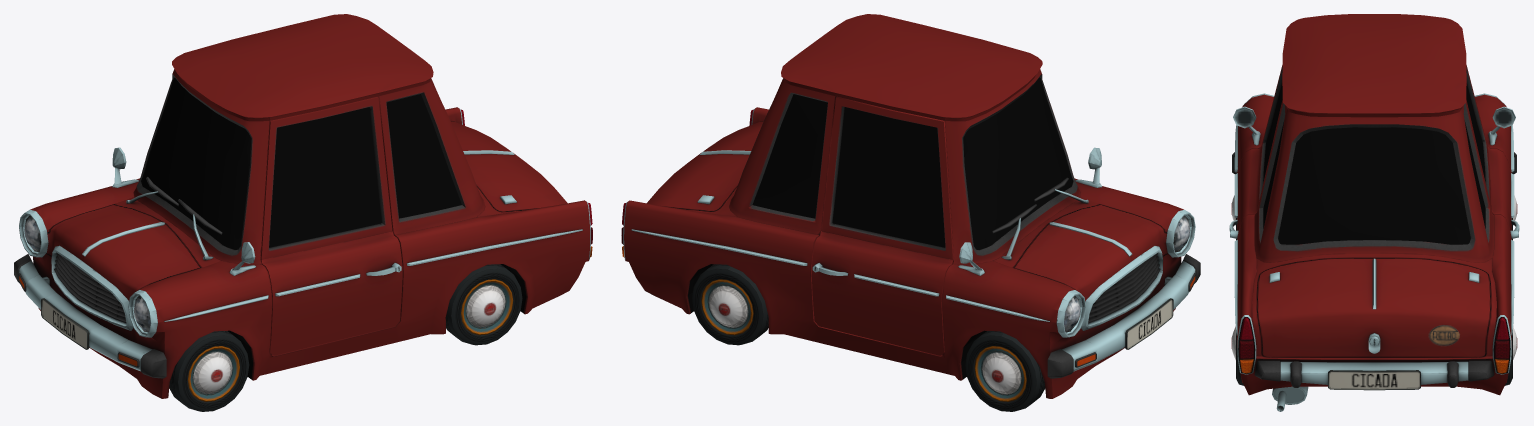
Rendered from old_car.dae.
3 views of the same model, side by side, from view 1: azimuth 30°, elevation 25°; view 2: azimuth 150°, elevation 25°; view 3: azimuth 270°, elevation 25° (orthographic).
Parts seen in each view (by area): view 1: CICADA_PAINT_CICADA_PAINT_0, glass_CICADA_GLASS_0, LEFT_DOOR_CICADA_PAINT_0, left_door_glass_CICADA_GLASS_0, CICADA_CHROME_CICADA_CHROME_0, BODY_CICADA_DEFAULT_0, left_front_wheel_CICADA_DEFAULT_0, left_rear_wheel_CICADA_DEFAULT_0, front_lamp_glass_CICADA_LAMPS_0, DOOR_L_CHROME_CICADA_DEFAULT_0; view 2: CICADA_PAINT_CICADA_PAINT_0, glass_CICADA_GLASS_0, RIGHT_DOOR_CICADA_PAINT_0, right_door_glass_CICADA_GLASS_0, CICADA_CHROME_CICADA_CHROME_0, BODY_CICADA_DEFAULT_0, right_front_wheel_CICADA_DEFAULT_0, right_rear_wheel_CICADA_DEFAULT_0, front_lamp_glass_CICADA_LAMPS_0, DOOR_R_CHROME_CICADA_DEFAULT_0; view 3: CICADA_PAINT_CICADA_PAINT_0, glass_CICADA_GLASS_0, BODY_CICADA_DEFAULT_0, CICADA_CHROME_CICADA_CHROME_0, LEFT_DOOR_CICADA_PAINT_0, RIGHT_DOOR_CICADA_PAINT_0, rear_lamp_glass_CICADA_LAMPS_0, left_door_glass_CICADA_GLASS_0, right_door_glass_CICADA_GLASS_0, DOOR_L_CHROME_CICADA_DEFAULT_0, DOOR_R_CHROME_CICADA_DEFAULT_0.
Part boxes in pixels (bbox=[...]): CICADA_PAINT_CICADA_PAINT_0: bbox=[30, 14, 590, 398]; glass_CICADA_GLASS_0: bbox=[141, 78, 461, 249]; LEFT_DOOR_CICADA_PAINT_0: bbox=[260, 96, 402, 355]; left_door_glass_CICADA_GLASS_0: bbox=[269, 107, 381, 247]; CICADA_CHROME_CICADA_CHROME_0: bbox=[19, 147, 582, 371]; BODY_CICADA_DEFAULT_0: bbox=[14, 74, 526, 379]; left_front_wheel_CICADA_DEFAULT_0: bbox=[169, 331, 249, 411]; left_rear_wheel_CICADA_DEFAULT_0: bbox=[445, 264, 522, 345]; front_lamp_glass_CICADA_LAMPS_0: bbox=[24, 215, 150, 332]; DOOR_L_CHROME_CICADA_DEFAULT_0: bbox=[275, 263, 401, 296]; CICADA_PAINT_CICADA_PAINT_0: bbox=[623, 14, 1183, 398]; glass_CICADA_GLASS_0: bbox=[752, 78, 1073, 249]; RIGHT_DOOR_CICADA_PAINT_0: bbox=[811, 96, 953, 355]; right_door_glass_CICADA_GLASS_0: bbox=[832, 107, 945, 247]; CICADA_CHROME_CICADA_CHROME_0: bbox=[631, 147, 1195, 371]; BODY_CICADA_DEFAULT_0: bbox=[688, 74, 1200, 379]; right_front_wheel_CICADA_DEFAULT_0: bbox=[965, 331, 1045, 411]; right_rear_wheel_CICADA_DEFAULT_0: bbox=[692, 264, 768, 345]; front_lamp_glass_CICADA_LAMPS_0: bbox=[1064, 215, 1190, 332]; DOOR_R_CHROME_CICADA_DEFAULT_0: bbox=[812, 263, 939, 296]; CICADA_PAINT_CICADA_PAINT_0: bbox=[1237, 14, 1511, 395]; glass_CICADA_GLASS_0: bbox=[1263, 122, 1485, 244]; BODY_CICADA_DEFAULT_0: bbox=[1232, 124, 1516, 390]; CICADA_CHROME_CICADA_CHROME_0: bbox=[1233, 93, 1515, 411]; LEFT_DOOR_CICADA_PAINT_0: bbox=[1237, 65, 1282, 239]; RIGHT_DOOR_CICADA_PAINT_0: bbox=[1466, 65, 1511, 239]; rear_lamp_glass_CICADA_LAMPS_0: bbox=[1239, 317, 1509, 373]; left_door_glass_CICADA_GLASS_0: bbox=[1263, 83, 1282, 181]; right_door_glass_CICADA_GLASS_0: bbox=[1466, 83, 1485, 181]; DOOR_L_CHROME_CICADA_DEFAULT_0: bbox=[1229, 173, 1238, 238]; DOOR_R_CHROME_CICADA_DEFAULT_0: bbox=[1510, 173, 1519, 238].
Bounding box in the file's own units: 2.82 × 1.47 × 1.5.
5 materials, 5 textured.
